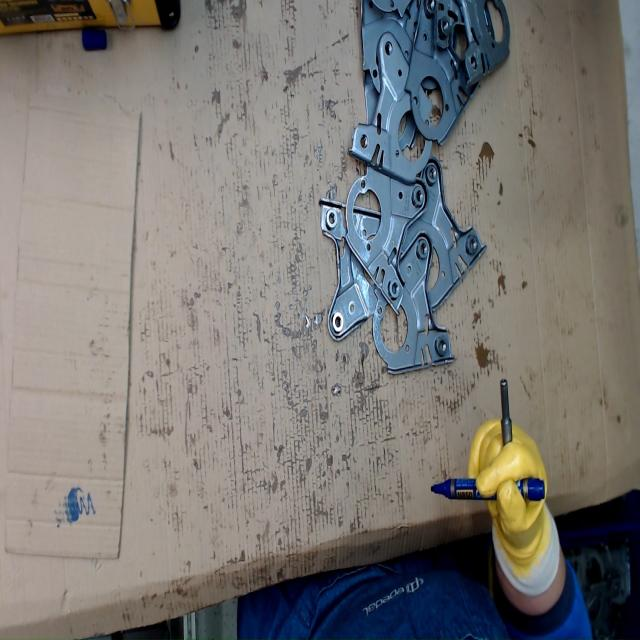hands: (468, 416, 555, 575)
